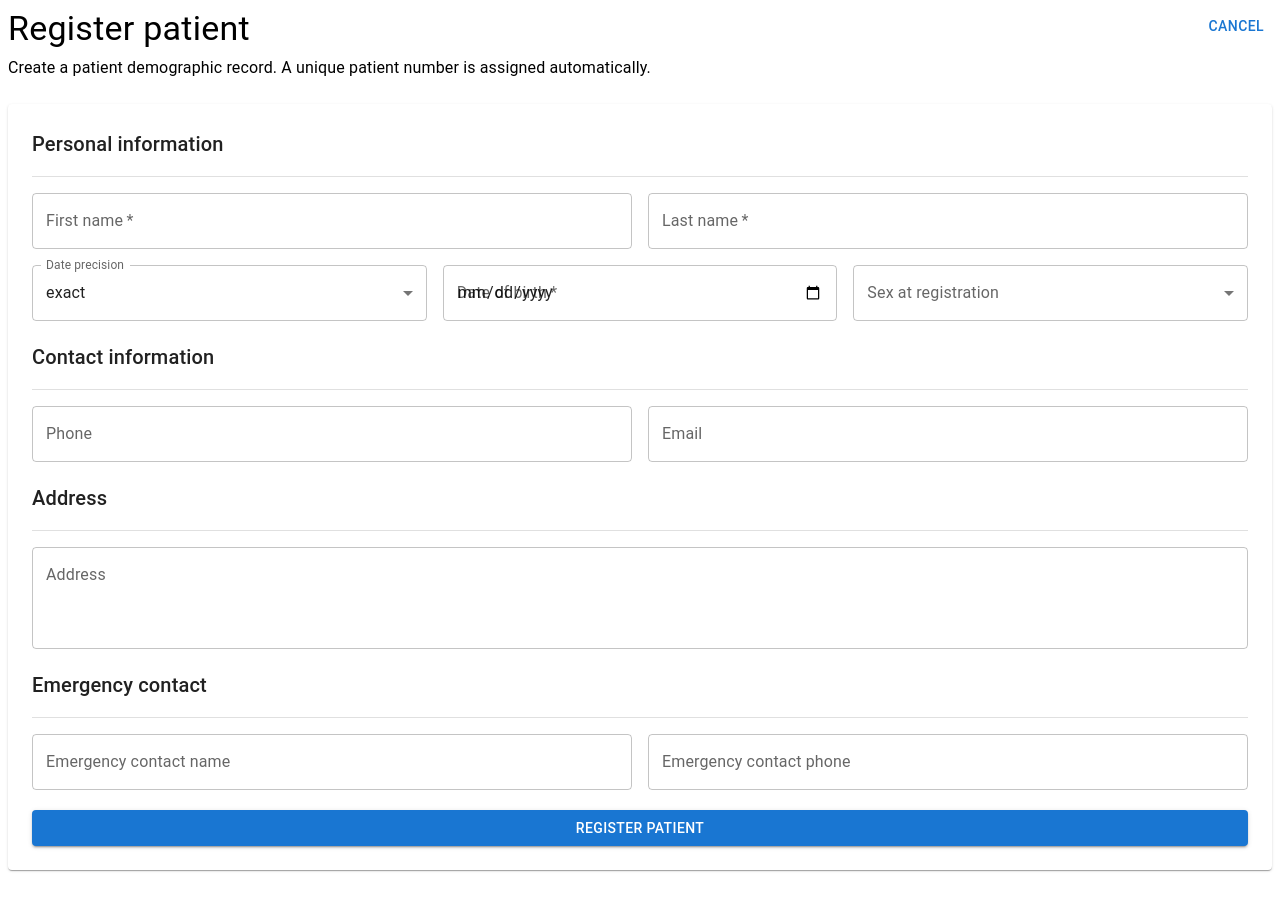
Test: patient registration and query invalidation › registers a valid patient and navigates to details
In the field labelled "First name *": (332, 221) top-left (32, 193), bottom-right (632, 249), type "Fictional"
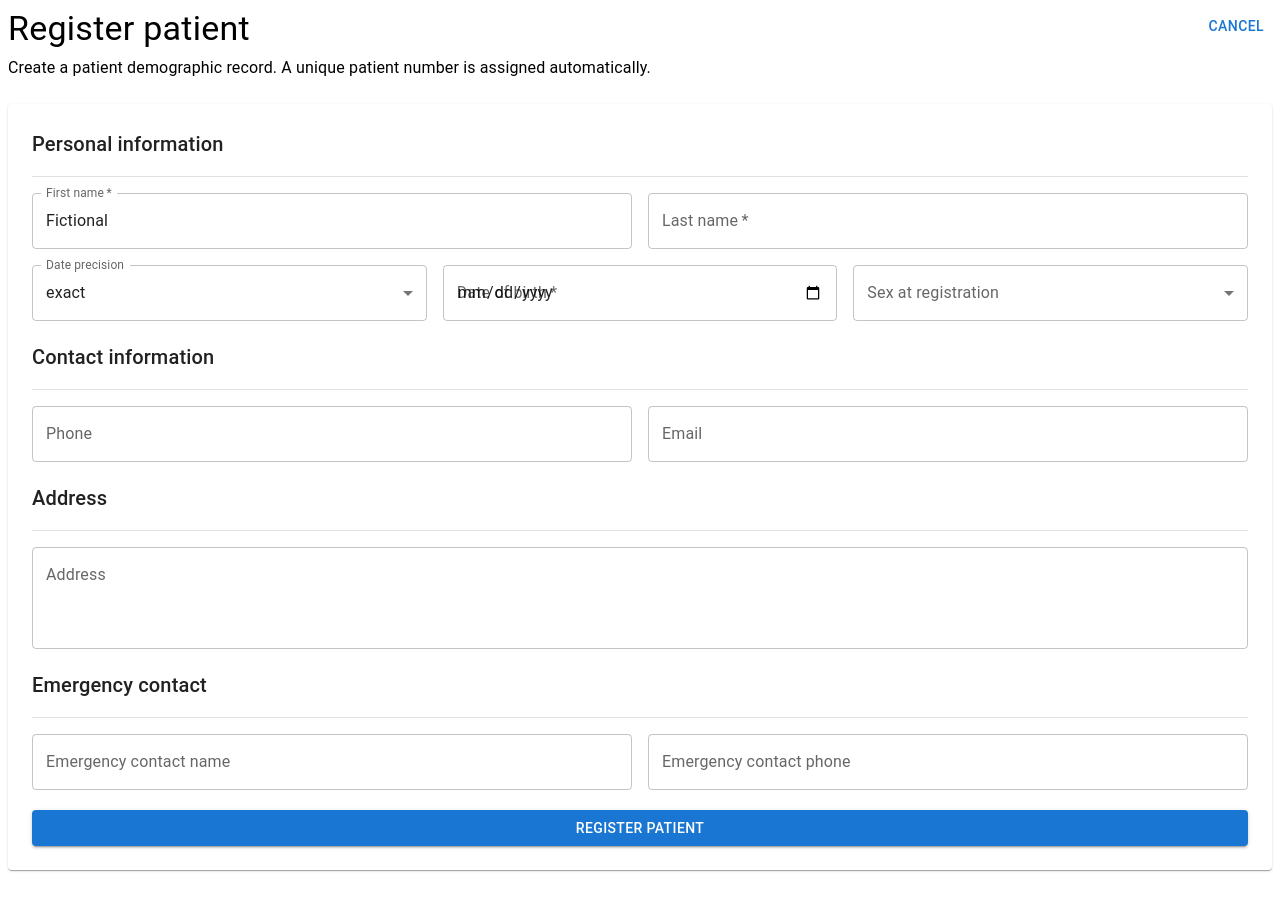
In the field labelled "Last name *": (948, 221) top-left (648, 193), bottom-right (1248, 249), type "Patient"
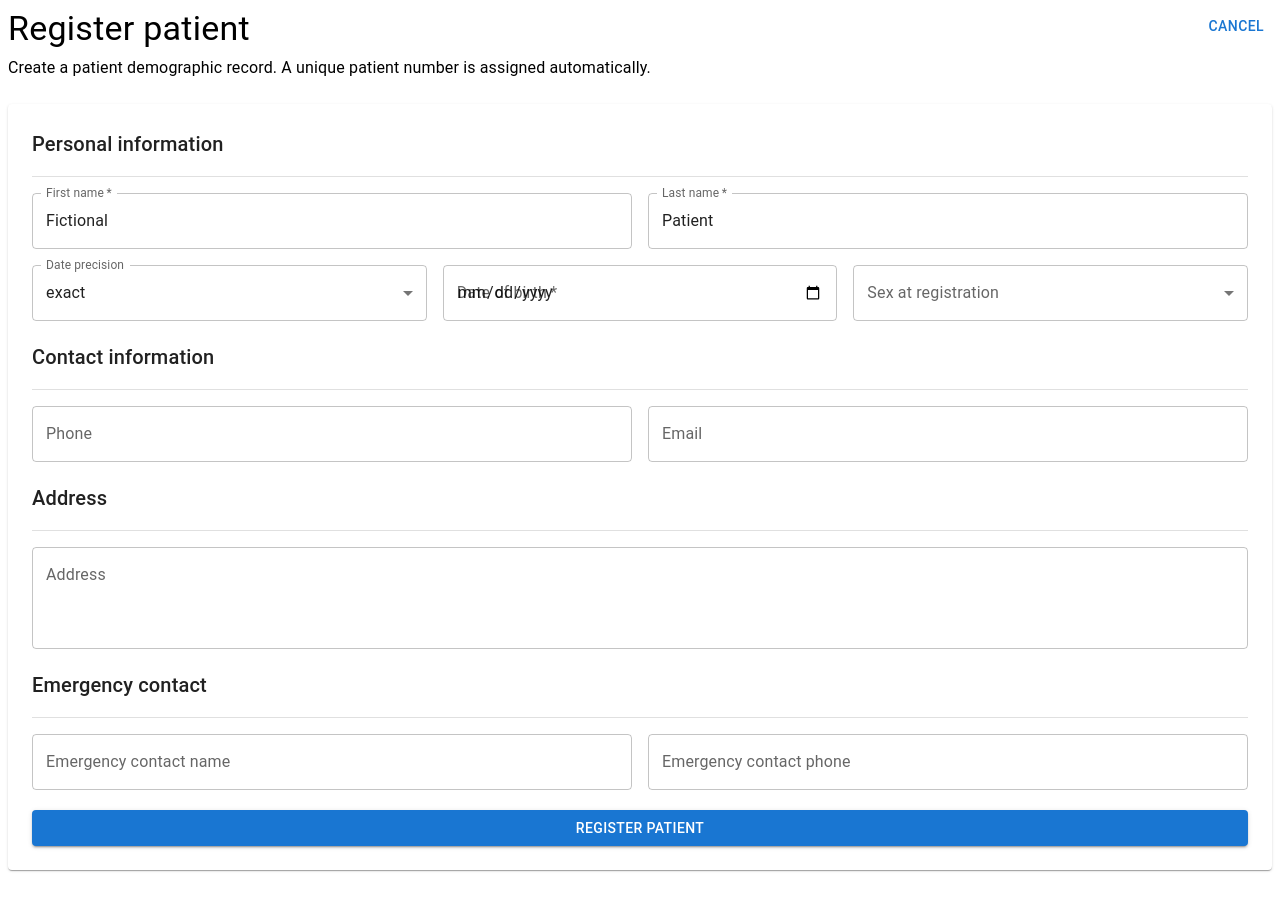
In the date field labelled "Date of birth *": (640, 293) top-left (443, 265), bottom-right (837, 321), type "1990-01-01"
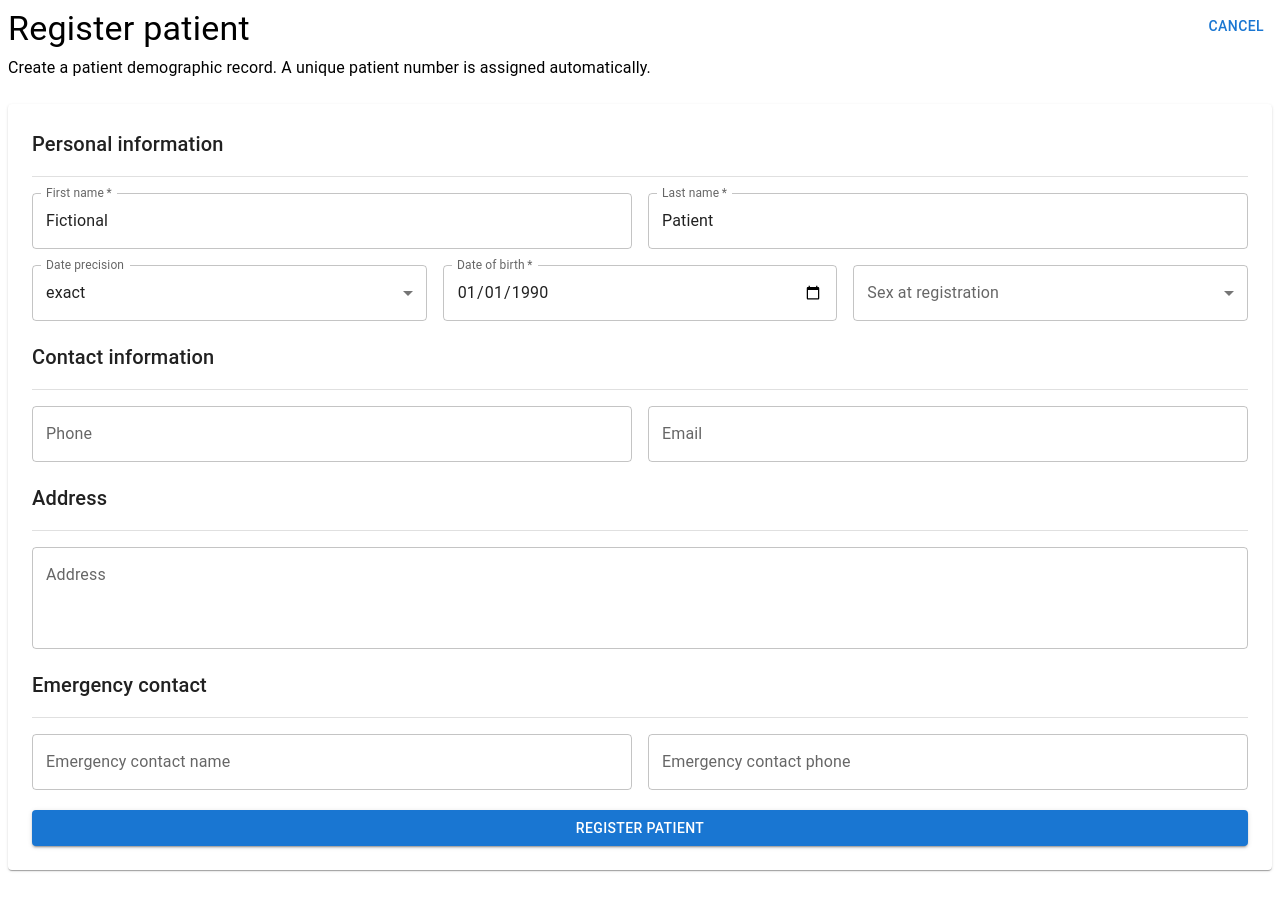
Click the button "Register patient": (640, 828) top-left (32, 810), bottom-right (1248, 846)
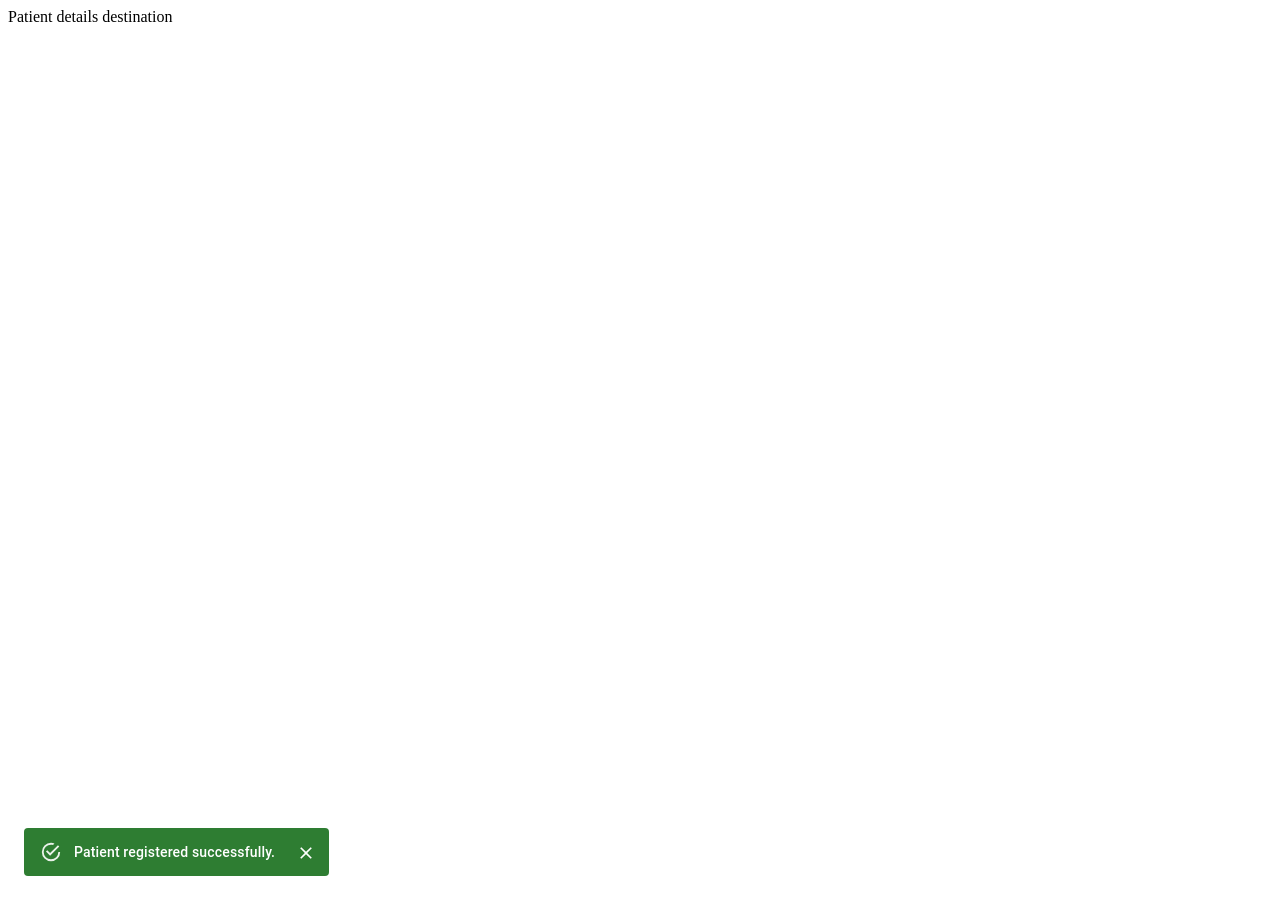
expect the text "Patient details destination" is shown: met, box top-left (8, 8), bottom-right (172, 25)
